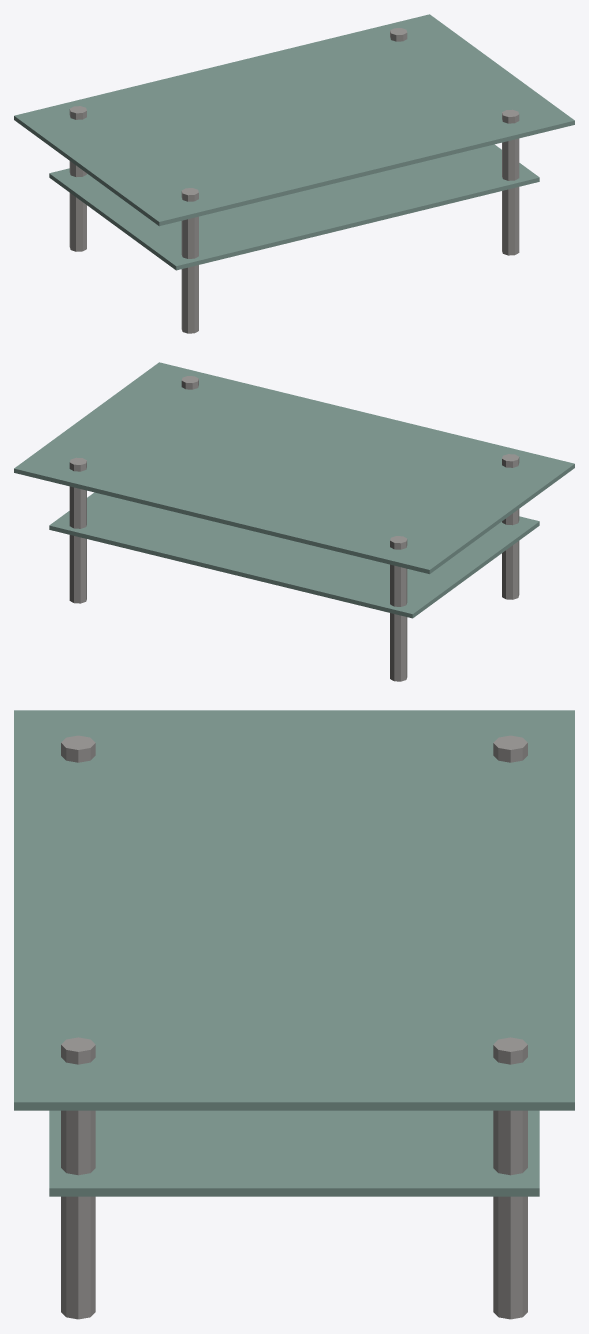
File: Prop_CoffeeTable_01.glb
The picture shows the model from 3 angles, top to bottom: view 1: azimuth 30°, elevation 25°; view 2: azimuth 150°, elevation 25°; view 3: azimuth 270°, elevation 25°; orthographic projection. The views are drawn at different scales.
Visible parts, largest first — view 1: SM_Prop_CoffeTable_Glass_01, SM_Prop_CoffeTable_01; view 2: SM_Prop_CoffeTable_Glass_01, SM_Prop_CoffeTable_01; view 3: SM_Prop_CoffeTable_Glass_01, SM_Prop_CoffeTable_01.
Part boxes in pixels (box(x1,y1,x2,y2)): SM_Prop_CoffeTable_Glass_01: box(14, 14, 574, 270); SM_Prop_CoffeTable_01: box(69, 28, 519, 333); SM_Prop_CoffeTable_Glass_01: box(14, 362, 574, 618); SM_Prop_CoffeTable_01: box(69, 376, 519, 681); SM_Prop_CoffeTable_Glass_01: box(14, 710, 574, 1196); SM_Prop_CoffeTable_01: box(61, 735, 527, 1319).
Bounding box in the file's own units: 1.46 × 0.4654 × 0.8846.
2 materials, 1 textured.
